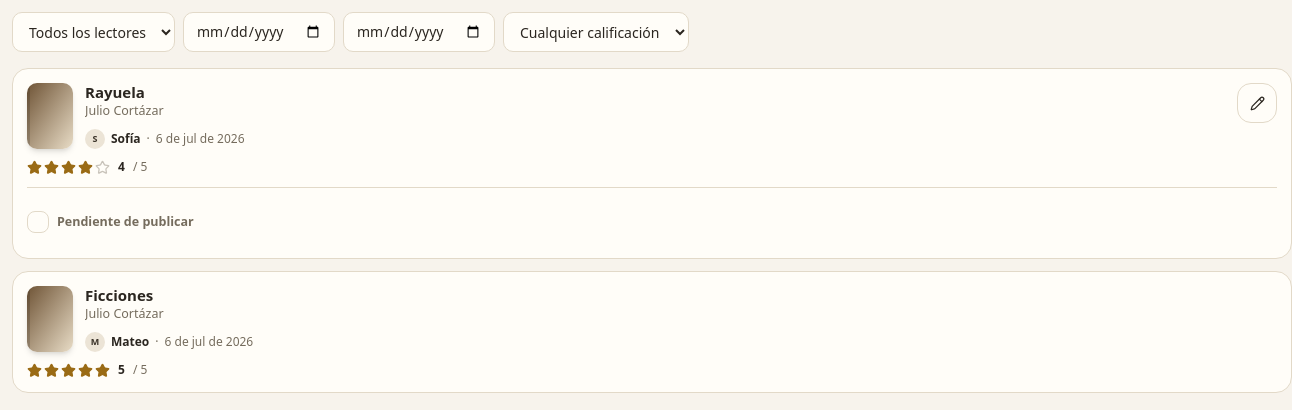
Test: ReadingHistory › shows a no-match state and clears filters
Expected: the text "Rayuela" is shown, [85,82,145,102]
Select "1 ★" in the dropdown named "Filtrar por calificación" at coordinates (596, 32), box [503,12,689,52]
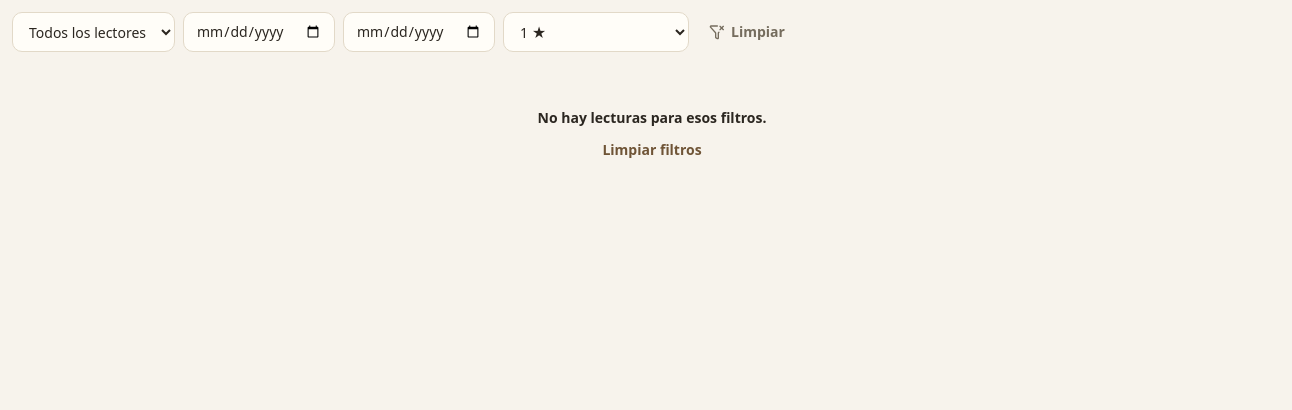
Expected: the text "No hay lecturas para esos filtros." is shown, [538,108,766,128]
Click the button "Limpiar filtros" at coordinates (652, 150), box [602,140,702,160]
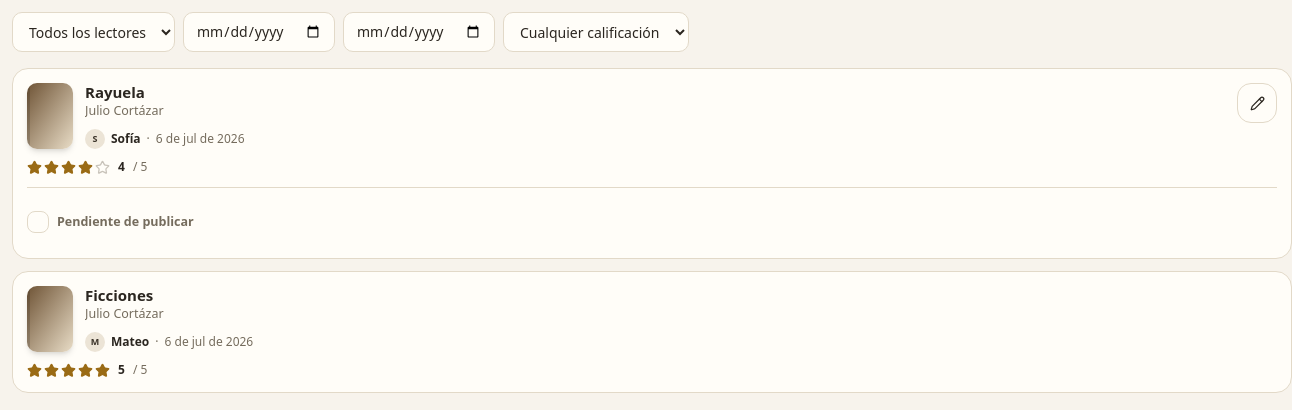
Expected: the text "Rayuela" is shown, [85,82,145,102]
